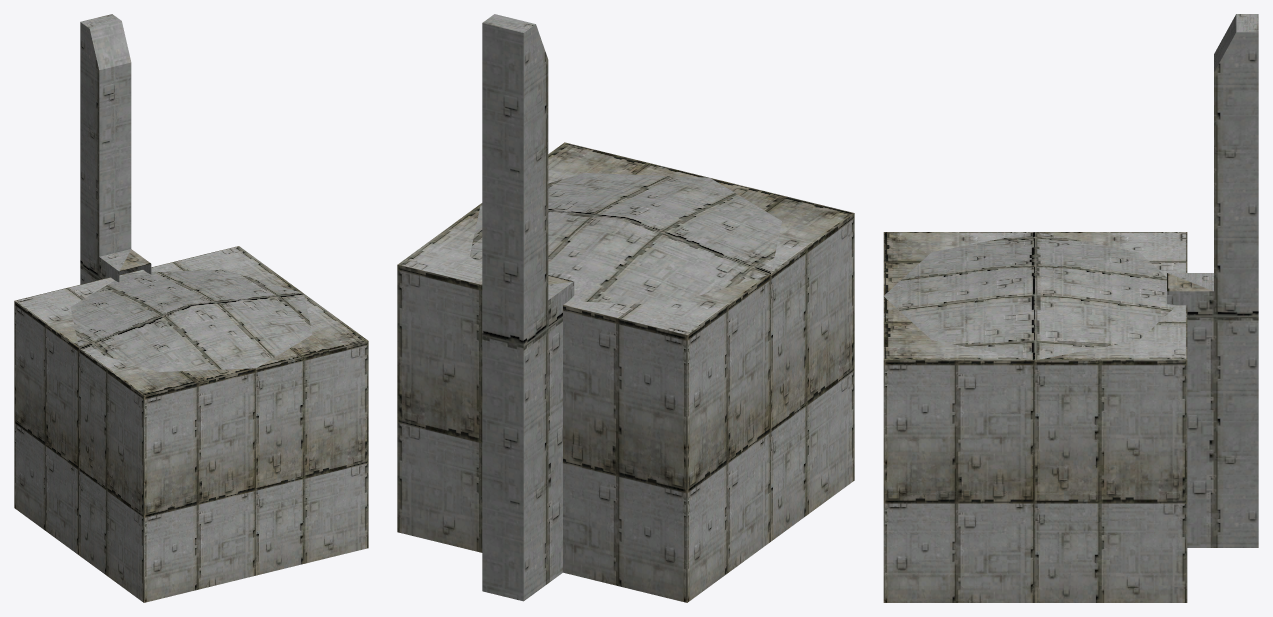
Rendered from ins_all_def_turret_sm_s03_l1.fbx.
The picture shows the model from 3 angles, left to right: view 1: azimuth 30°, elevation 25°; view 2: azimuth 150°, elevation 25°; view 3: azimuth 270°, elevation 25°; orthographic projection. The views are drawn at different scales.
Parts seen in each view (by area): view 1: mesh_node; view 2: mesh_node; view 3: mesh_node.
Boxes of the visible parts, x1=… form: mesh_node: x1=14, y1=14, x2=368, y2=602; mesh_node: x1=397, y1=14, x2=854, y2=602; mesh_node: x1=883, y1=14, x2=1258, y2=602.
Size of the model in its own units: 1.7 by 3.19 by 2.1.
